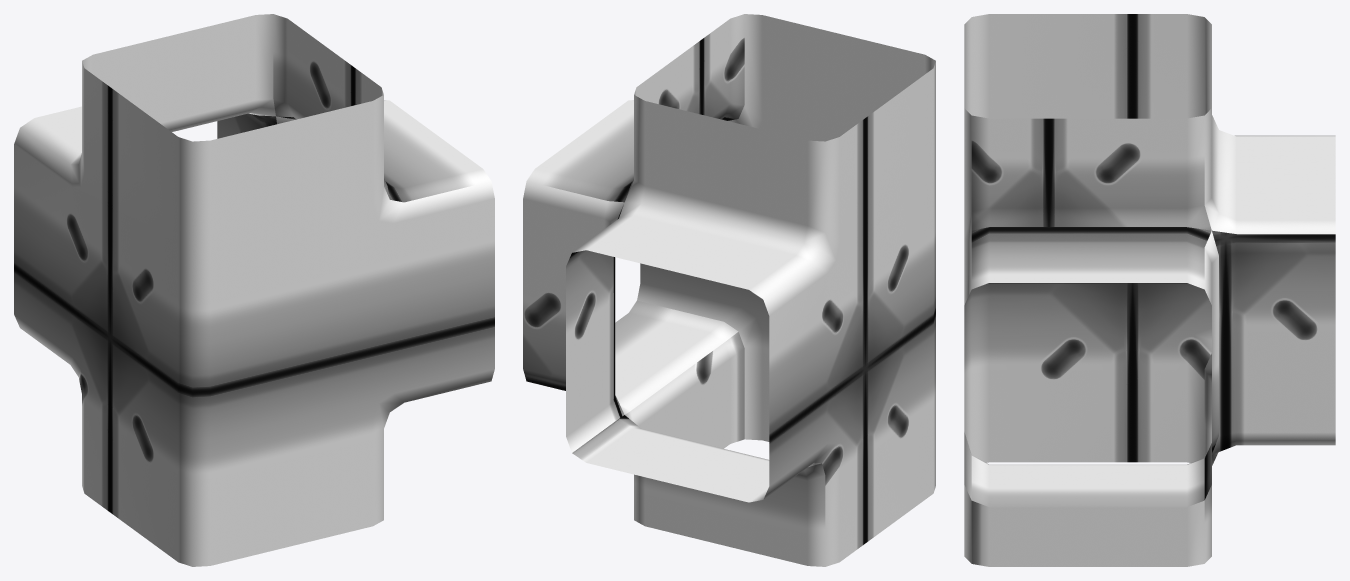
The model's file is MDL_Trim_4Corner.fbx.
The picture shows the model from 3 angles, left to right: view 1: azimuth 30°, elevation 25°; view 2: azimuth 150°, elevation 25°; view 3: azimuth 270°, elevation 25°; orthographic projection. The views are drawn at different scales.
Parts seen in each view (by area): view 1: trim4Corner; view 2: trim4Corner; view 3: trim4Corner.
Part boxes in pixels (bbox=[...]): trim4Corner: bbox=[14, 14, 494, 566]; trim4Corner: bbox=[523, 14, 935, 566]; trim4Corner: bbox=[964, 14, 1335, 566].
Size of the model in its own units: 0.75 by 1 by 0.75.
